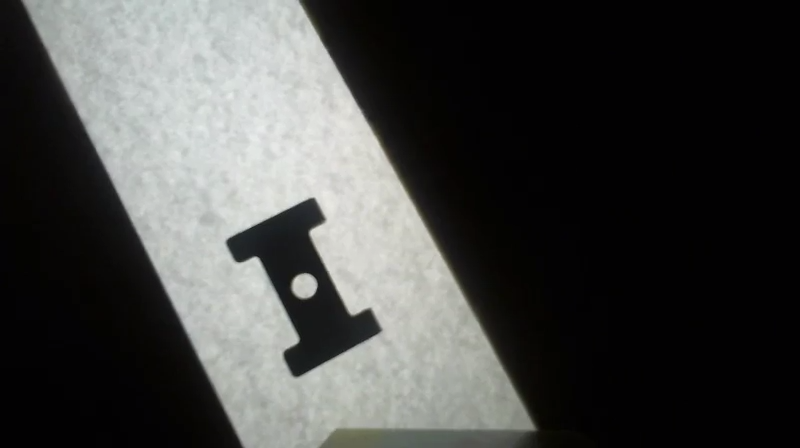O002: (222, 193, 385, 380)
